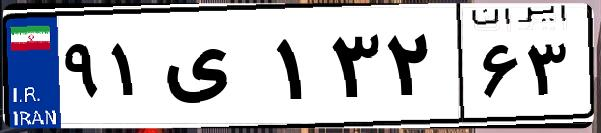1: (270, 28, 330, 110), (110, 28, 158, 98)
2: (385, 28, 445, 110)
3: (330, 28, 385, 110), (525, 38, 570, 115)
6: (475, 38, 525, 113)
9: (57, 26, 110, 100)
ی: (158, 20, 270, 120)
